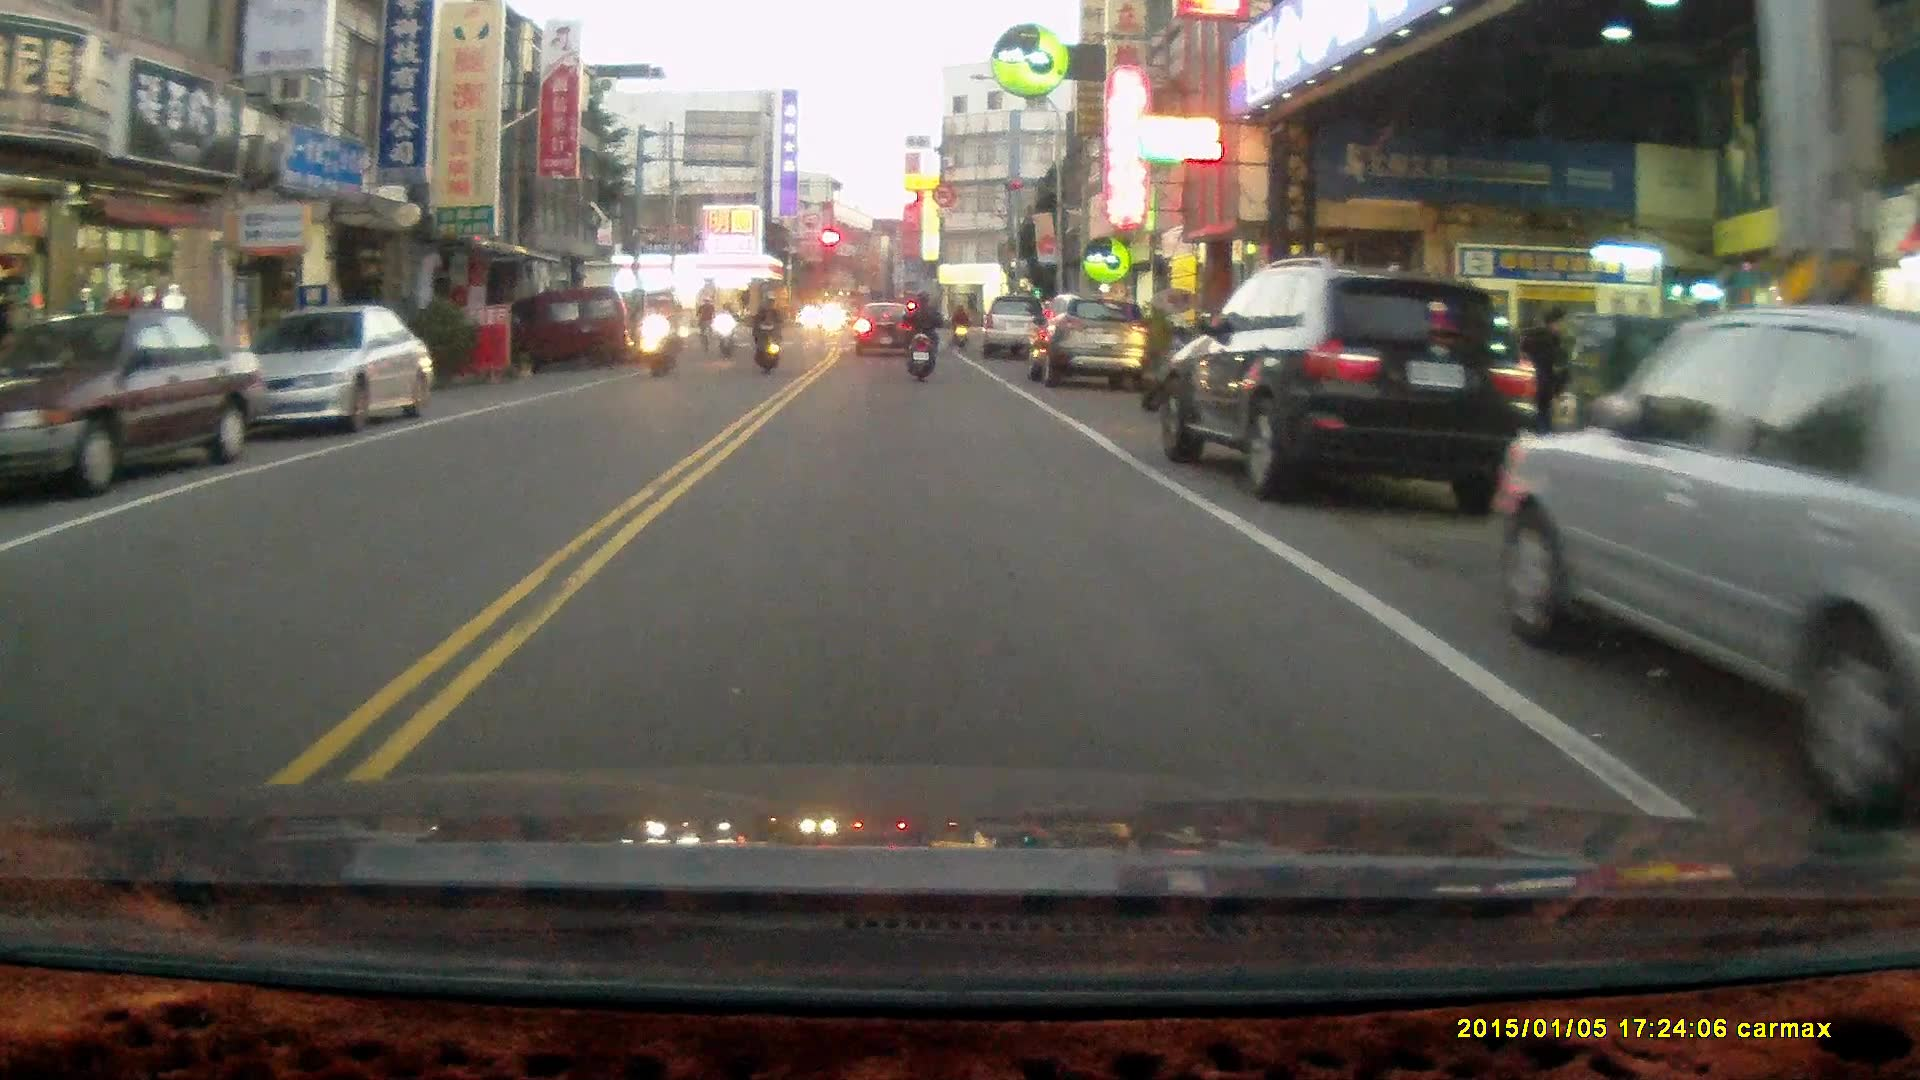pedestrian: (1524, 307, 1569, 472)
rider: (900, 289, 941, 381), (642, 292, 676, 378), (750, 290, 782, 372), (694, 291, 716, 353), (712, 295, 736, 354), (946, 297, 968, 343)
vehicle: (1491, 304, 1920, 830), (1163, 255, 1537, 507), (8, 304, 271, 503), (223, 303, 438, 435), (1025, 293, 1150, 383), (534, 284, 644, 361), (975, 290, 1061, 361)
